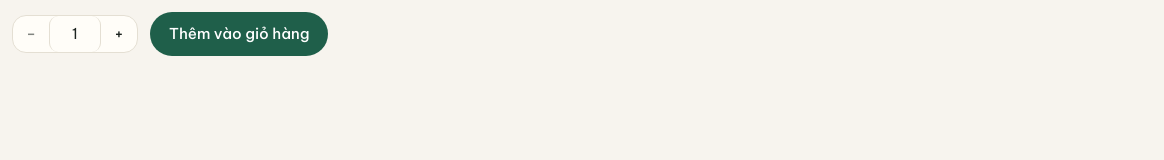
AddToCart › lỗi từ backend hiện ngay cạnh nút
The image size is (1164, 160).
Click the button "Thêm vào giỏ hàng": (239, 34) [150,12,328,56]
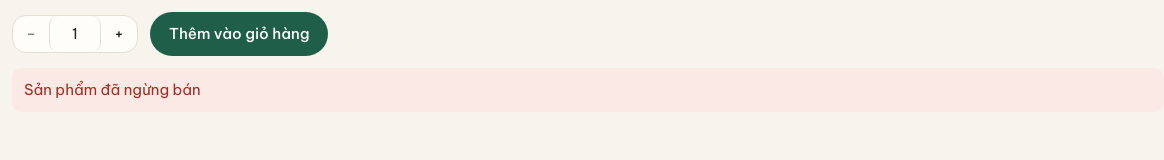
expect the message reads "Sản phẩm đã ngừng bán": met, box [24,80,201,99]
